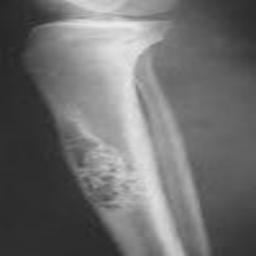cancer: (55, 109, 134, 209)
